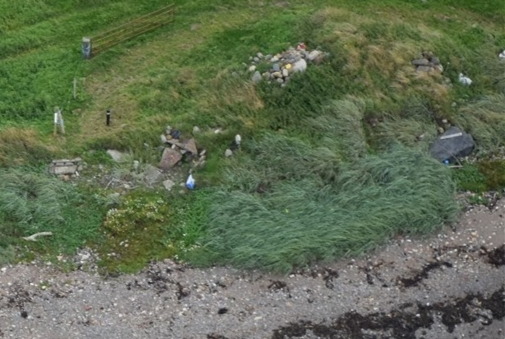scattered_barrel: (157, 122, 244, 192)
together_barrel: (248, 40, 317, 84)
